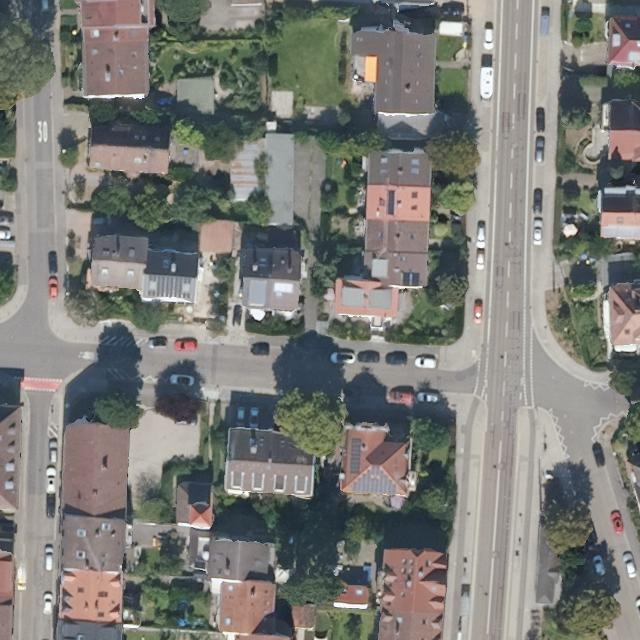PV: (344, 464, 404, 496), (145, 272, 193, 300), (349, 436, 365, 475)
